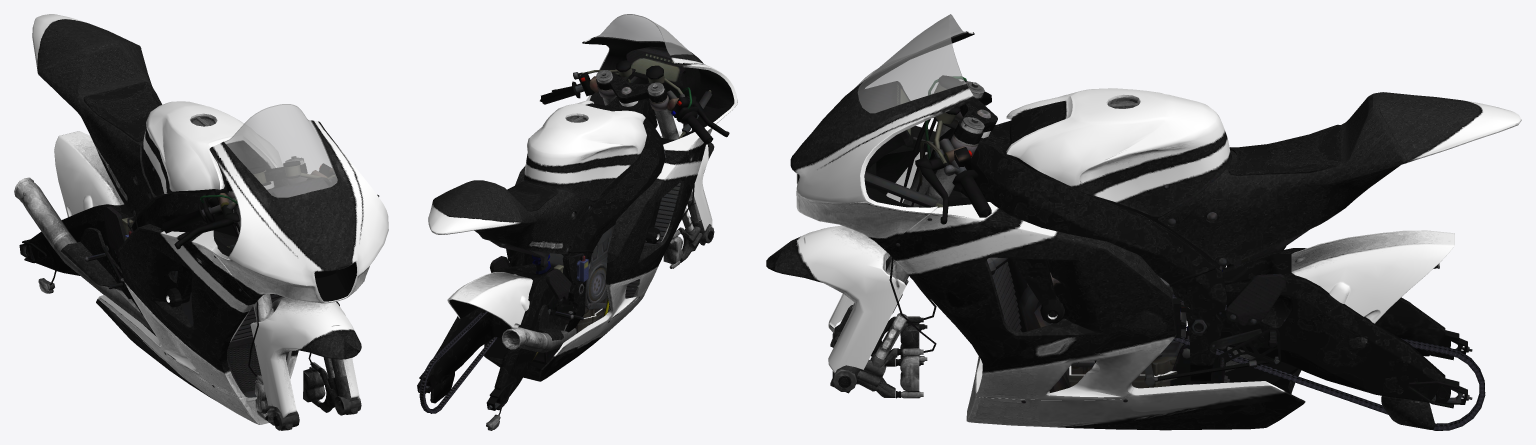
File: Motorcycle.fbx
3 views of the same model, side by side, from view 1: azimuth 30°, elevation 25°; view 2: azimuth 150°, elevation 25°; view 3: azimuth 270°, elevation 25° (orthographic). The views are drawn at different scales.
Parts seen in each view (by area): view 1: Body, Handle System, Rear MudGuard System, Headlight; view 2: Body, Rear MudGuard System, Handle System; view 3: Body, Rear MudGuard System, Handle System.
Boxes of the visible parts, left/top/right/bottom form: Body: left=14, top=14, right=388, bottom=424; Handle System: left=160, top=156, right=379, bottom=430; Rear MudGuard System: left=19, top=131, right=137, bottom=293; Headlight: left=314, top=262, right=356, bottom=301; Body: left=428, top=14, right=737, bottom=381; Rear MudGuard System: left=417, top=263, right=563, bottom=430; Handle System: left=540, top=60, right=729, bottom=268; Body: left=790, top=14, right=1521, bottom=430; Rear MudGuard System: left=1172, top=230, right=1485, bottom=430; Handle System: left=766, top=75, right=997, bottom=398.
Size of the model in its own units: 128 by 194 by 333.
